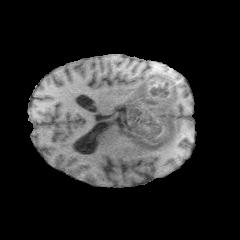glioma: (115, 71, 180, 152)
